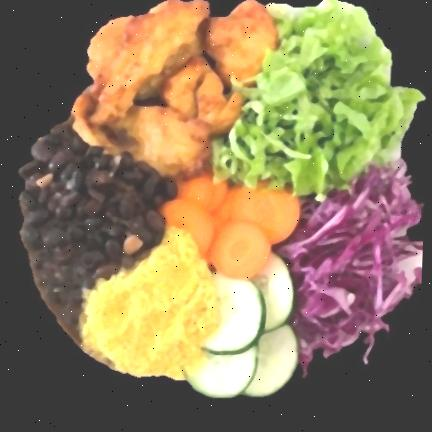beans: (20, 122, 175, 342)
carrot: (161, 175, 300, 278)
chicken: (73, 0, 279, 177)
cucumber: (183, 254, 297, 397)
salad: (213, 0, 424, 196)
